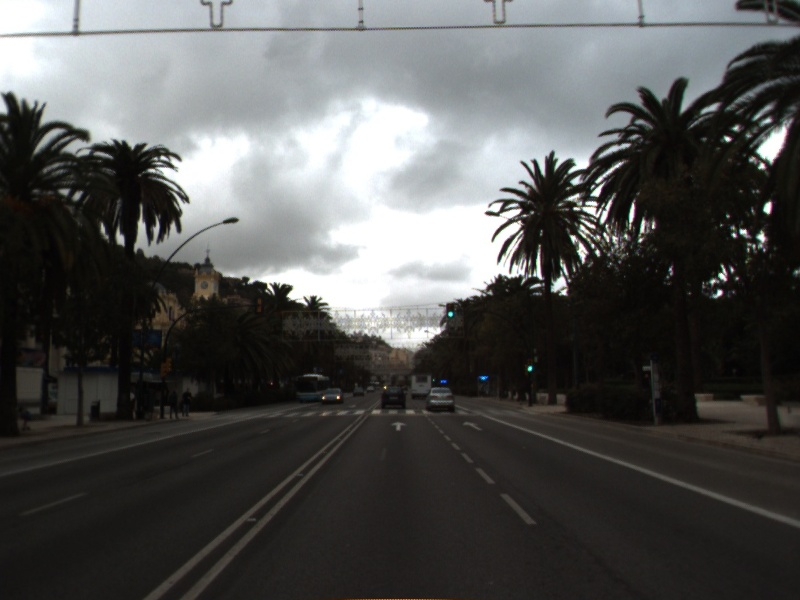STRAIGHT: (460, 419, 485, 433), (388, 419, 409, 433)
